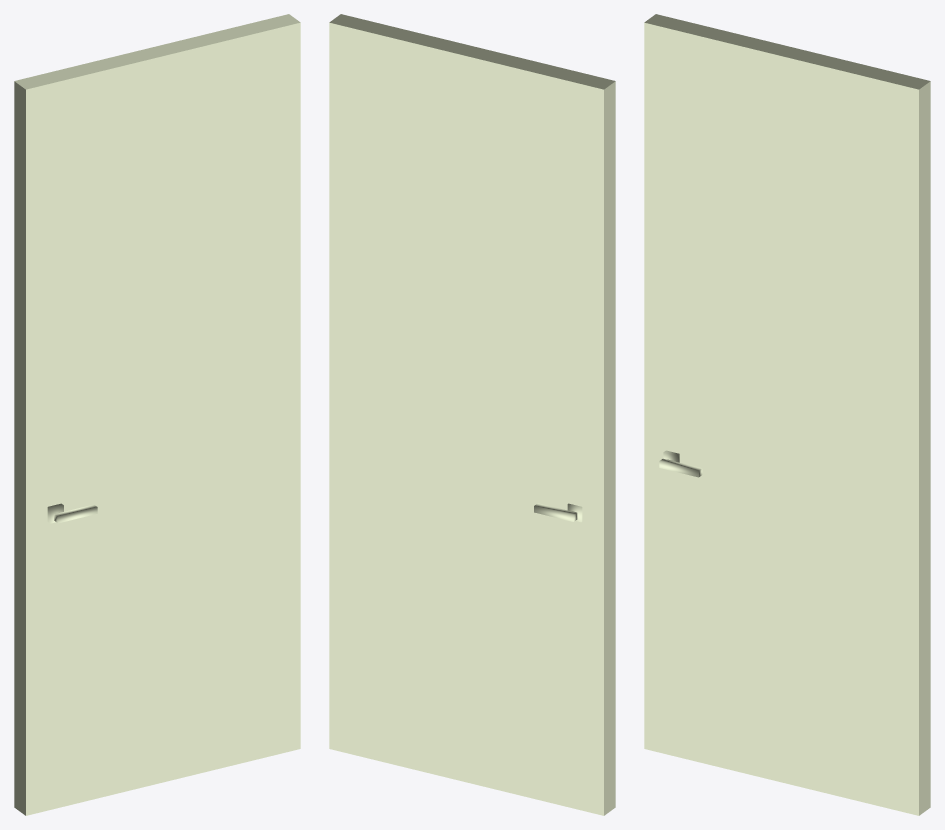
The model's file is cotf_door_small.FBX.
The picture shows the model from 3 angles, left to right: view 1: azimuth 30°, elevation 25°; view 2: azimuth 150°, elevation 25°; view 3: azimuth 330°, elevation 25°; orthographic projection.
Parts seen in each view (by area): view 1: cotf_door_small; view 2: cotf_door_small; view 3: cotf_door_small.
Part boxes in pixels (x1=…): cotf_door_small: x1=14, y1=14, x2=300, y2=815; cotf_door_small: x1=329, y1=14, x2=615, y2=815; cotf_door_small: x1=644, y1=14, x2=930, y2=815.
Bounding box in the file's own units: 1.11 × 2.81 × 0.1896.
